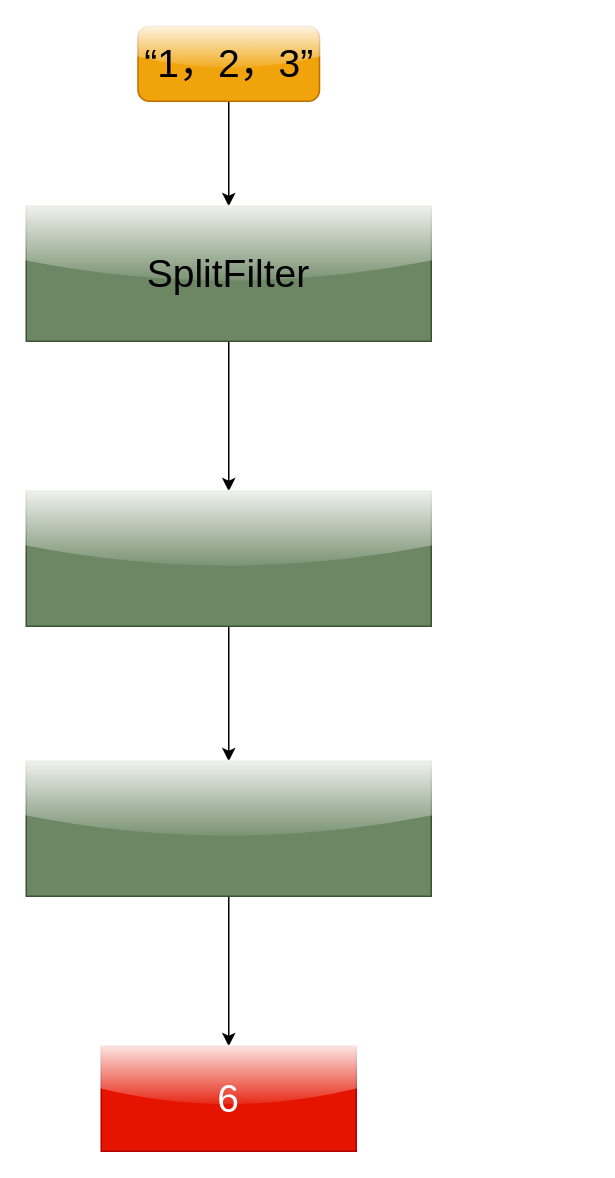
This 615x1178 diagram has some shape labels left out. Here are the shapes that lost their labels. From the top down, the centre of each, then its label:
[228,558]: ToIntFilter
[228,828]: SumFilter
